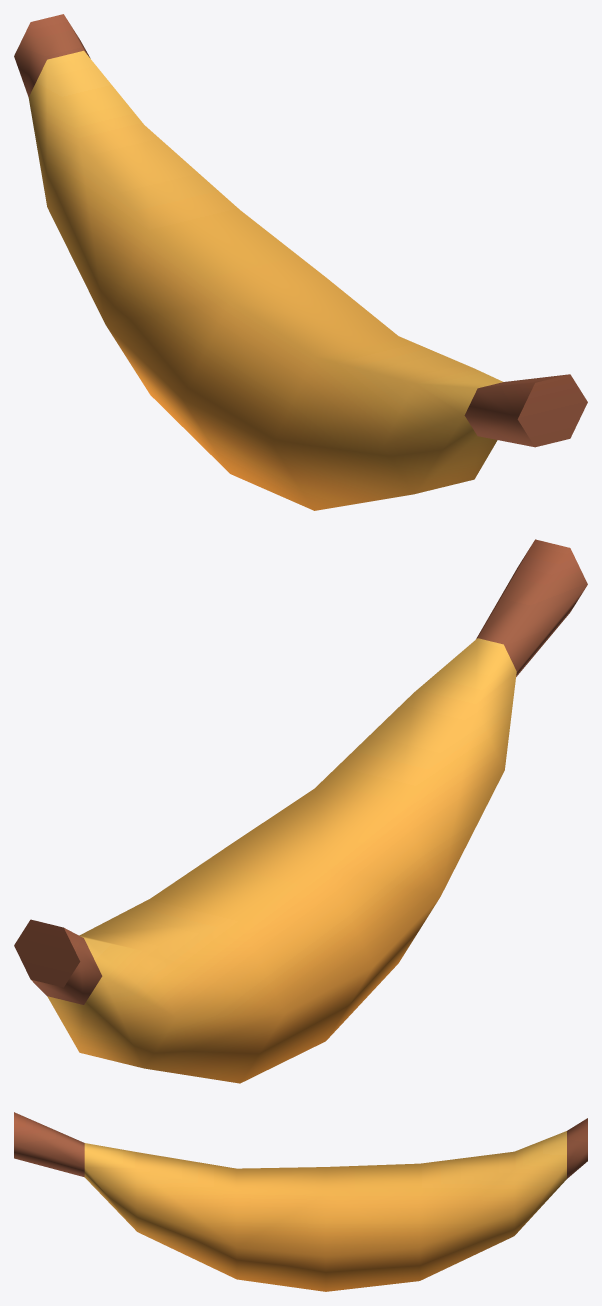
The model's file is banana.glb.
The picture shows the model from 3 angles, top to bottom: view 1: azimuth 30°, elevation 25°; view 2: azimuth 150°, elevation 25°; view 3: azimuth 270°, elevation 25°; orthographic projection. The views are drawn at different scales.
Visible parts, largest first — view 1: banana; view 2: banana; view 3: banana.
Part boxes in pixels (x1,y1,x2,y2): banana: (14, 14, 587, 510); banana: (14, 539, 587, 1083); banana: (14, 1112, 587, 1291).
Bounding box in the file's own units: 0.1376 × 0.1958 × 0.6299.
Materials: 1 (1 with a texture image).
